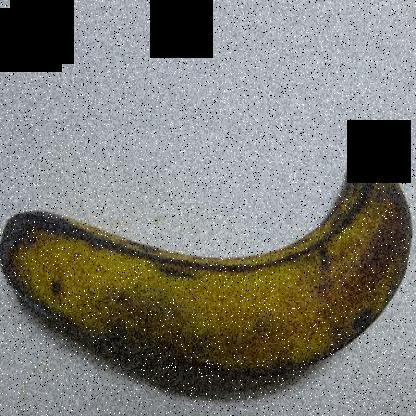rotten: (1, 140, 415, 395)
